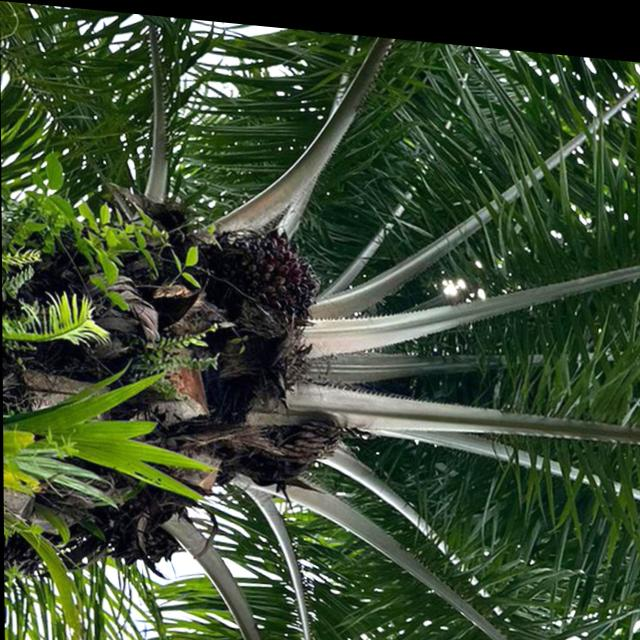ripe: (230, 218, 317, 323)
